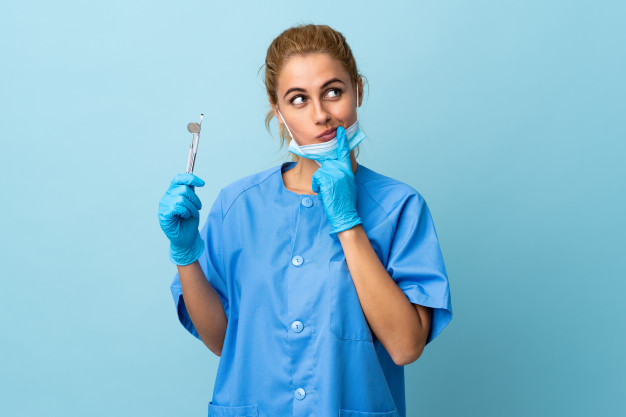mask_weared_incorrect: (265, 50, 367, 164)
